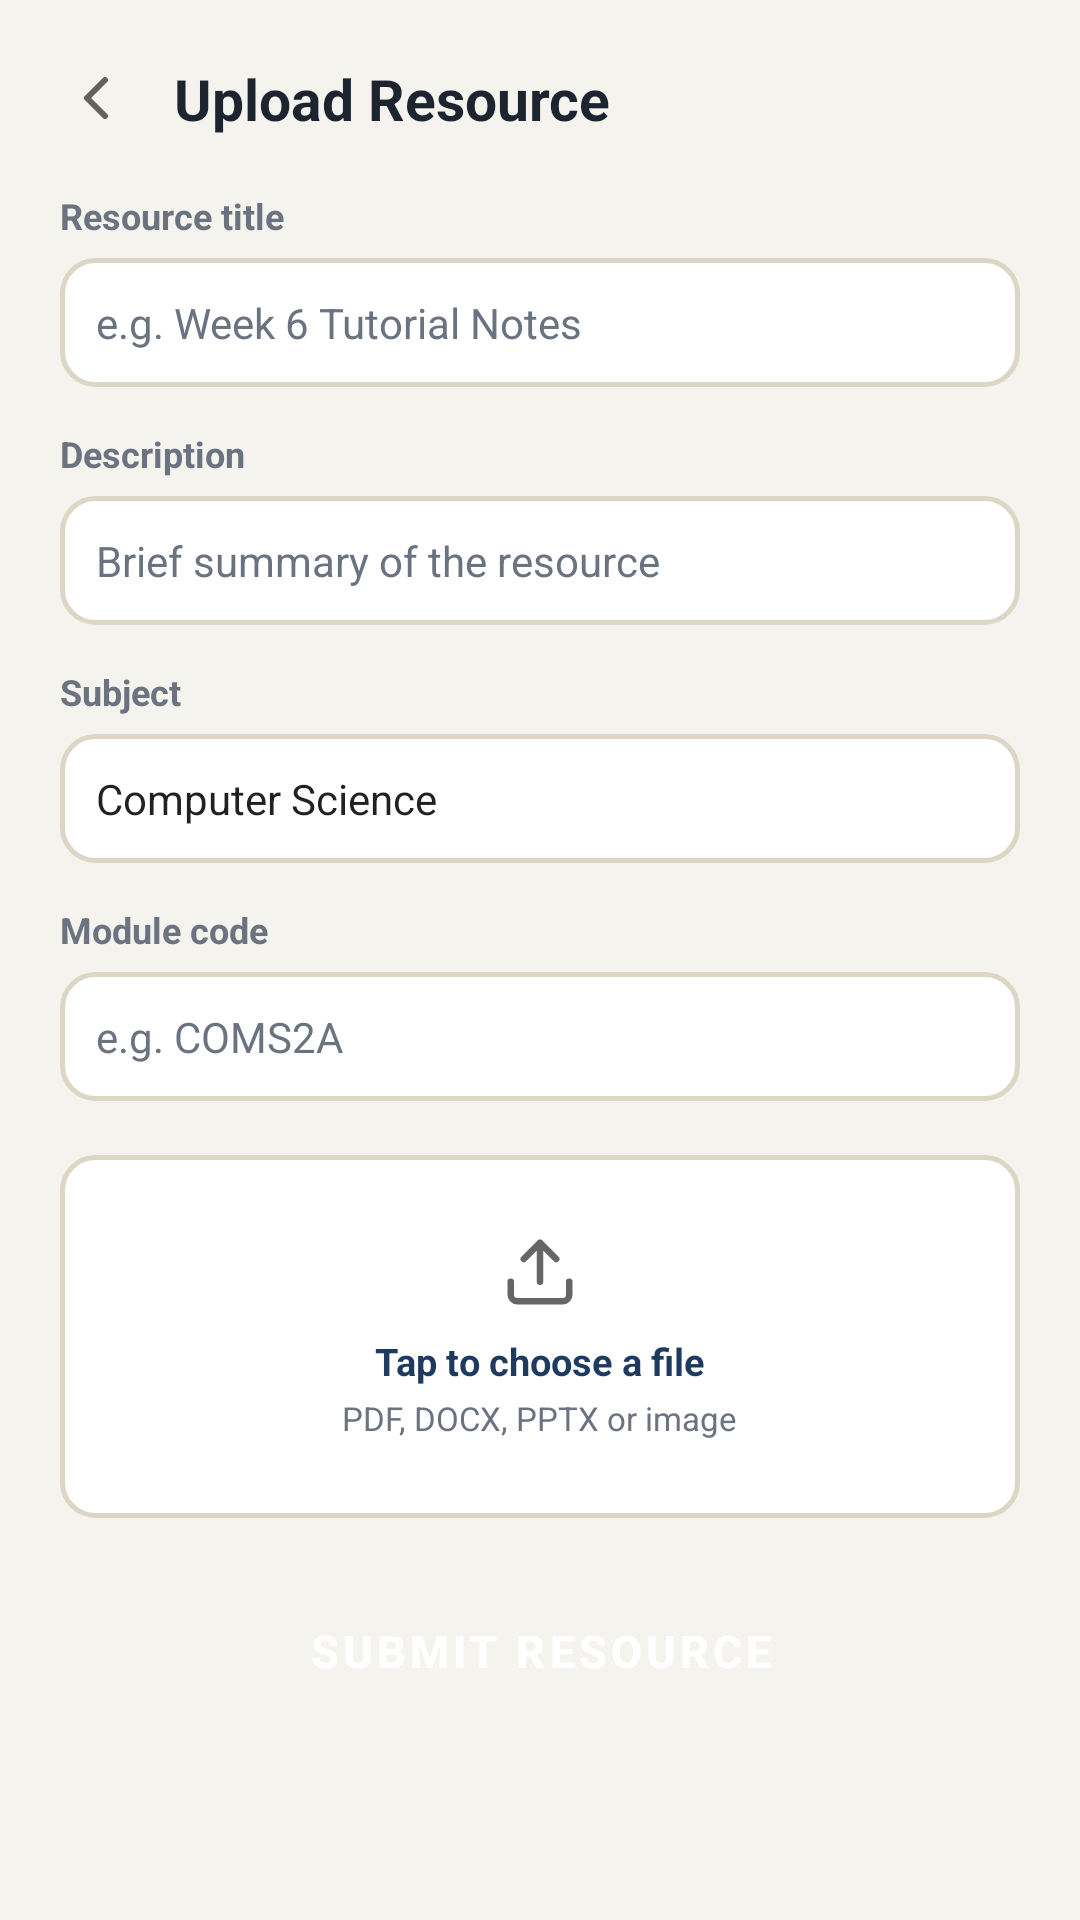

Where to tap for icons on this 1080px×1920px app screen, as [x,y]:
back: [96,98]
upload: [540,1272]
